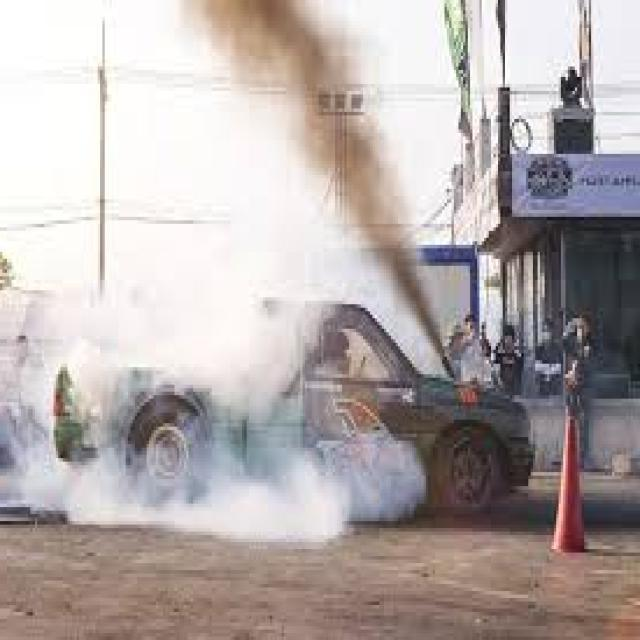Smoke: (0, 240, 425, 543), (180, 0, 445, 367)
